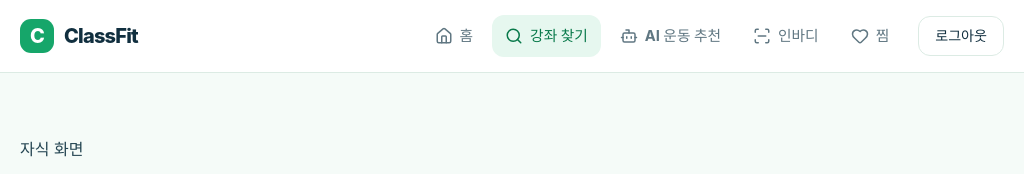
Test: AppShell › shows_logout_instead_of_login_and_clears_session_state
Expected: the link "카카오 로그인" is not shown
Click the button "로그아웃" at (961, 36), box [918, 16, 1004, 56]
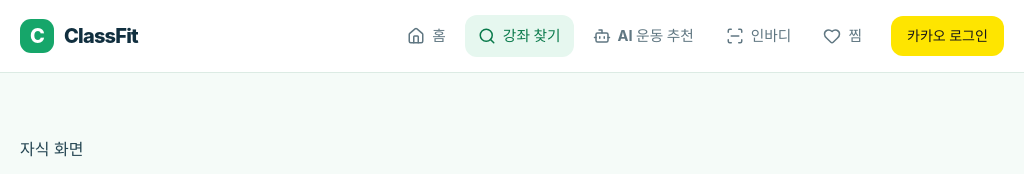
Result: the link "카카오 로그인" is shown at [891, 16, 1004, 56]
